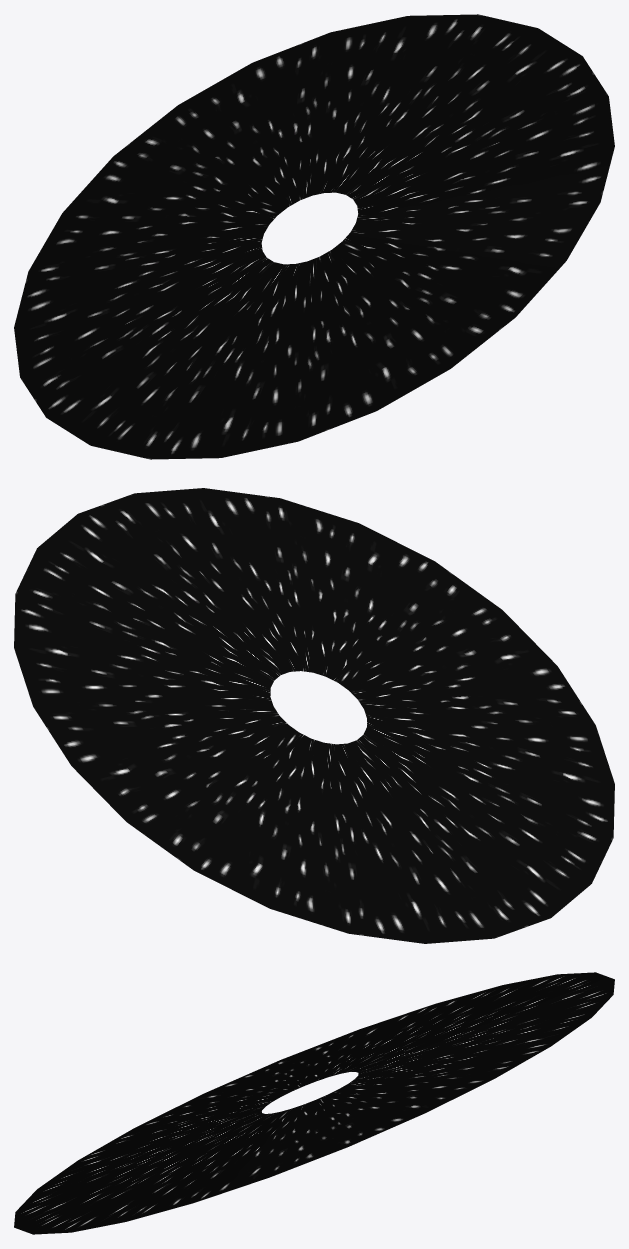
File: Gacha_Baglight_SSR.fbx
3 renders of one model, top to bottom at view 1: azimuth 30°, elevation 25°; view 2: azimuth 150°, elevation 25°; view 3: azimuth 330°, elevation 25°, orthographic.
Visible parts, largest first — view 1: yuanpan_04; view 2: yuanpan_04; view 3: yuanpan_04.
Part boxes in pixels (x1=…): yuanpan_04: x1=14, y1=14, x2=614, y2=459; yuanpan_04: x1=14, y1=488, x2=614, y2=943; yuanpan_04: x1=14, y1=972, x2=614, y2=1234.
Size of the model in its own units: 1 by 0.4939 by 1.12.
